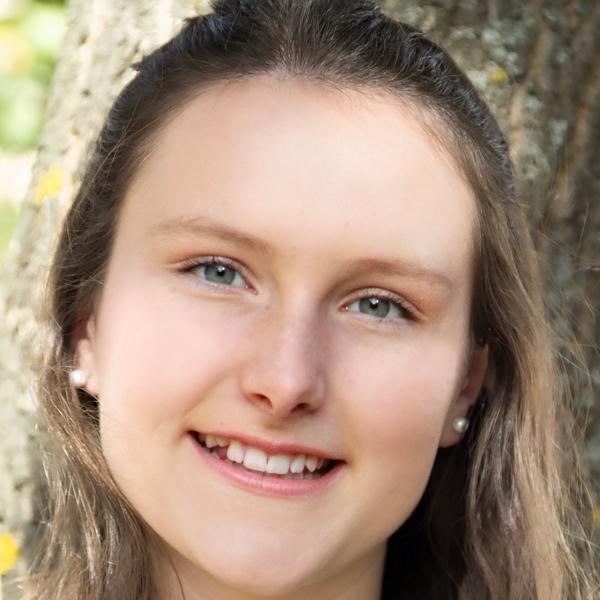Eyes: (163, 243, 272, 316), (331, 278, 432, 342)
